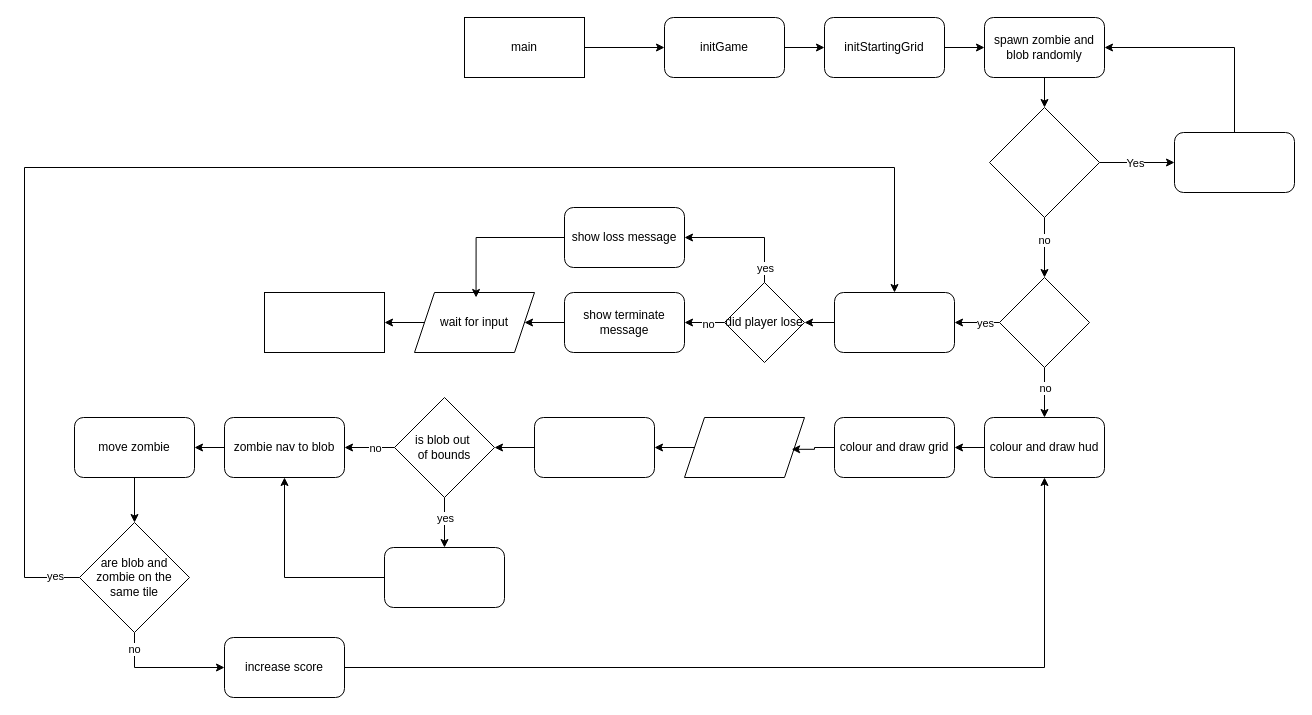
Some shapes in this 1312 by 715 pixel diagram are drawn without their labels. Here are the shapes that lost their labels. From the top down, the centre of each, then its label:
At point (1044, 162): "do blob and zombie overlap".
At point (1234, 162): "remove blob and zombie".
At point (324, 322): "terminate program".
At point (894, 322): "clear screen".
At point (1044, 322): "esc pressed?".
At point (594, 447): "update blob position".
At point (744, 447): "get usr input".
At point (444, 577): "move blob to other side of the grid".
